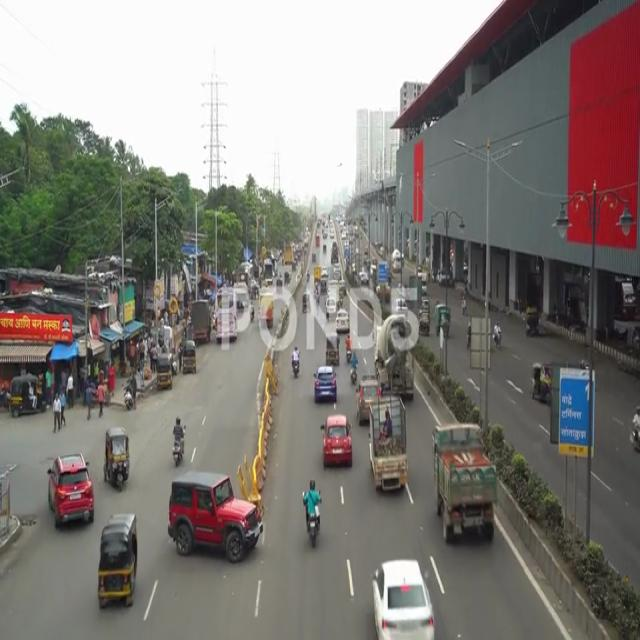car: (168, 471, 262, 576), (365, 553, 444, 640), (42, 453, 95, 532), (321, 415, 354, 472), (314, 364, 337, 403)
motorbike: (298, 476, 328, 549), (168, 412, 192, 465), (291, 342, 302, 378)
rikshaw: (96, 511, 141, 614), (100, 428, 135, 492)
truck: (429, 421, 498, 548), (370, 400, 410, 502)
